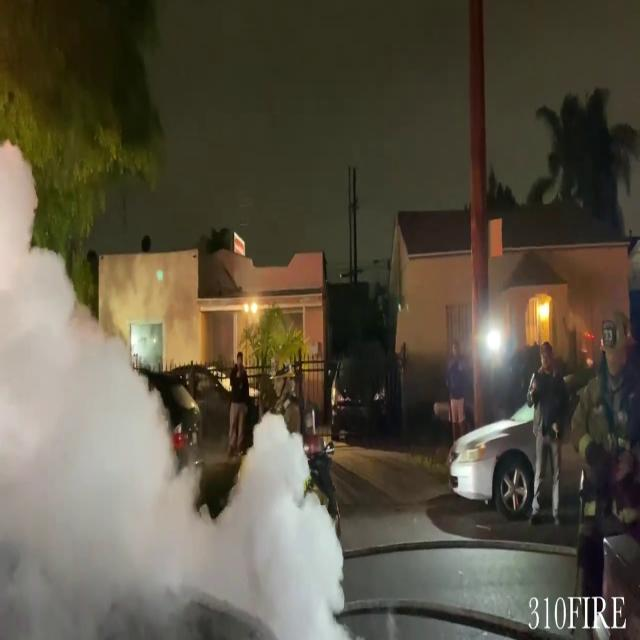Smoke: (0, 370, 348, 640), (0, 199, 159, 636)
